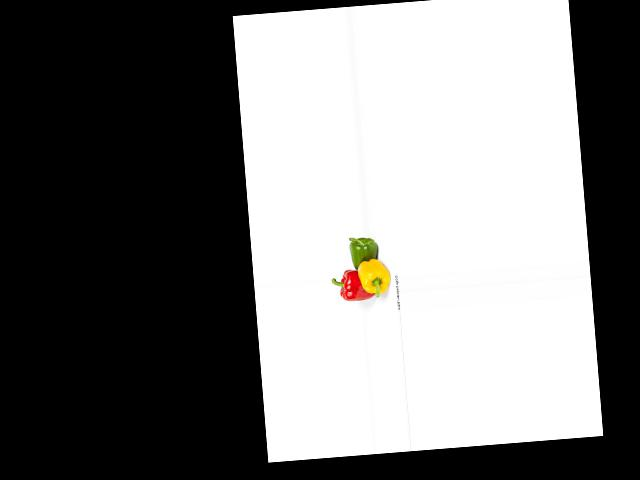bell_pepper: (331, 267, 373, 305)
